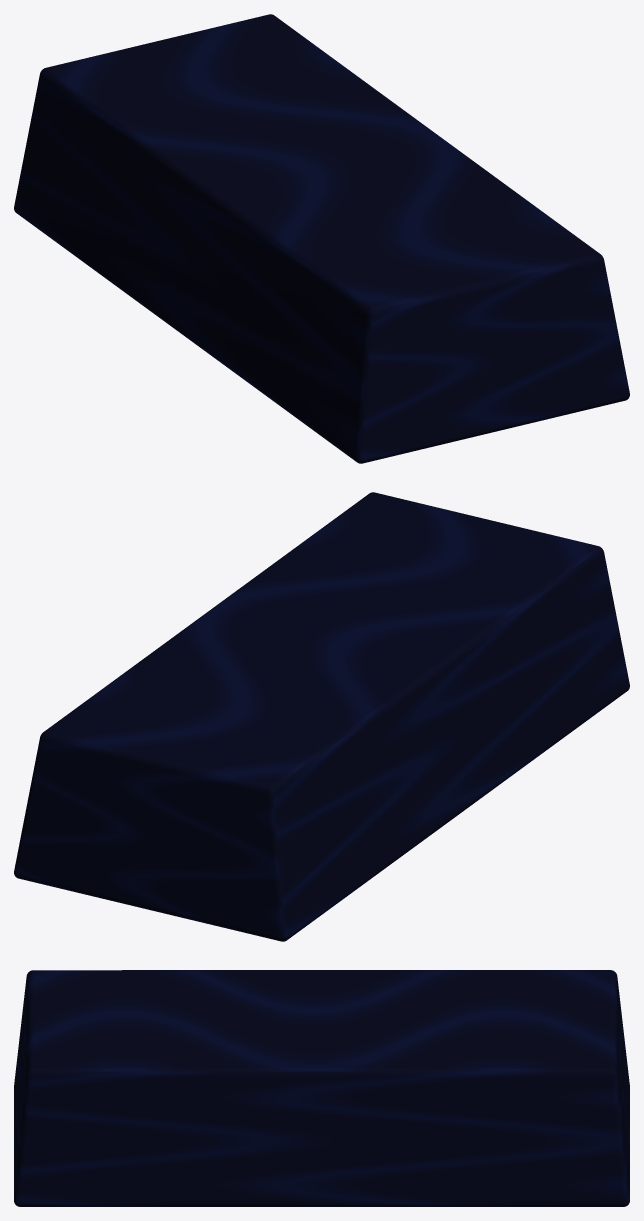
File: nightglass_bar.glb
The picture shows the model from 3 angles, top to bottom: view 1: azimuth 30°, elevation 25°; view 2: azimuth 150°, elevation 25°; view 3: azimuth 270°, elevation 25°; orthographic projection. The views are drawn at different scales.
Parts seen in each view (by area): view 1: nightglass_bar cast metal; view 2: nightglass_bar cast metal; view 3: nightglass_bar cast metal.
Boxes of the visible parts, x1,y1,x2,y2 form: nightglass_bar cast metal: (14, 14, 629, 463); nightglass_bar cast metal: (14, 492, 629, 941); nightglass_bar cast metal: (14, 970, 629, 1206).
Size of the model in its own units: 0.1431 by 0.0736 by 0.3144.
1 material, 1 textured.
